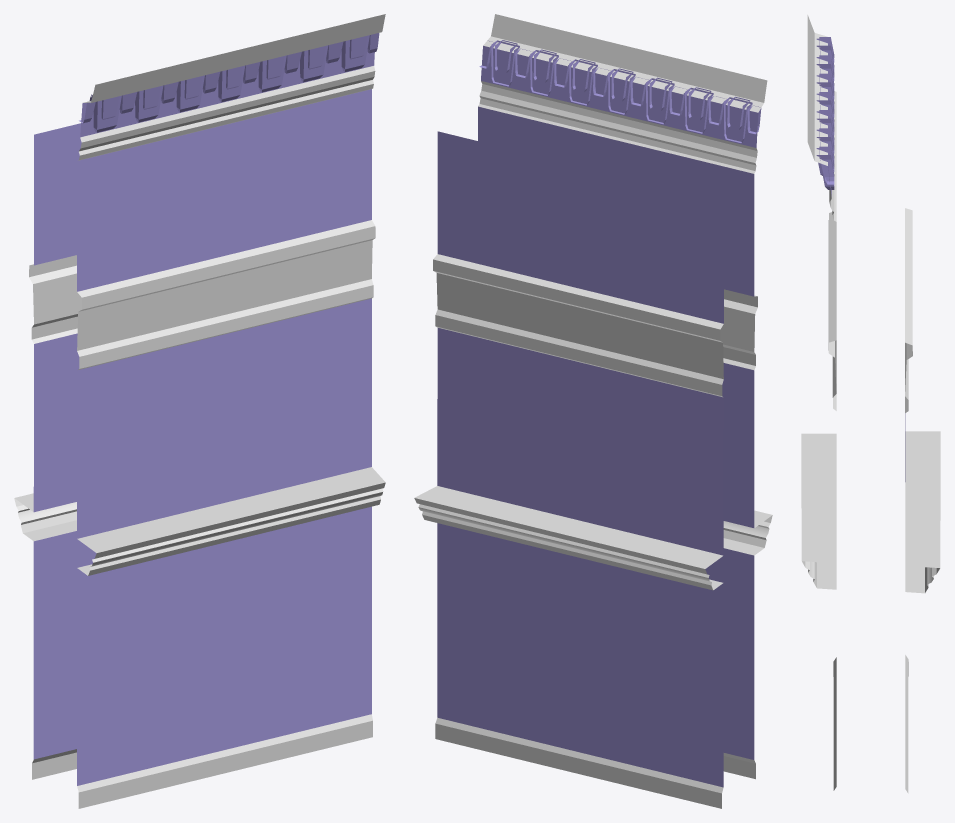
Rendered from FR Wall.fbx.
3 renders of one model, left to right at view 1: azimuth 30°, elevation 25°; view 2: azimuth 150°, elevation 25°; view 3: azimuth 270°, elevation 25°, orthographic. The views are drawn at different scales.
Visible parts, largest first — view 1: FR Wall_LOD0; view 2: FR Wall_LOD0; view 3: FR Wall_LOD0.
Part boxes in pixels (x1=…): FR Wall_LOD0: x1=14, y1=14, x2=385, y2=808; FR Wall_LOD0: x1=414, y1=14, x2=772, y2=808; FR Wall_LOD0: x1=801, y1=15, x2=940, y2=793.
Size of what is drawn, in the model's own units: 374 by 844 by 161.
